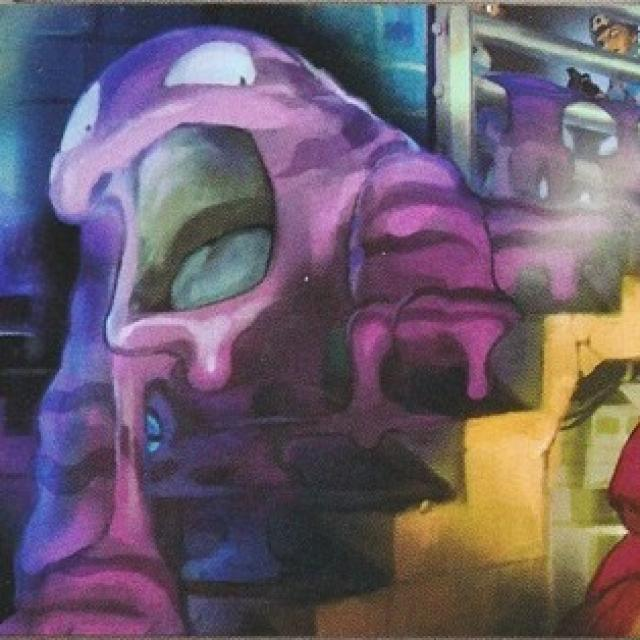Grimer: (30, 18, 528, 443)
